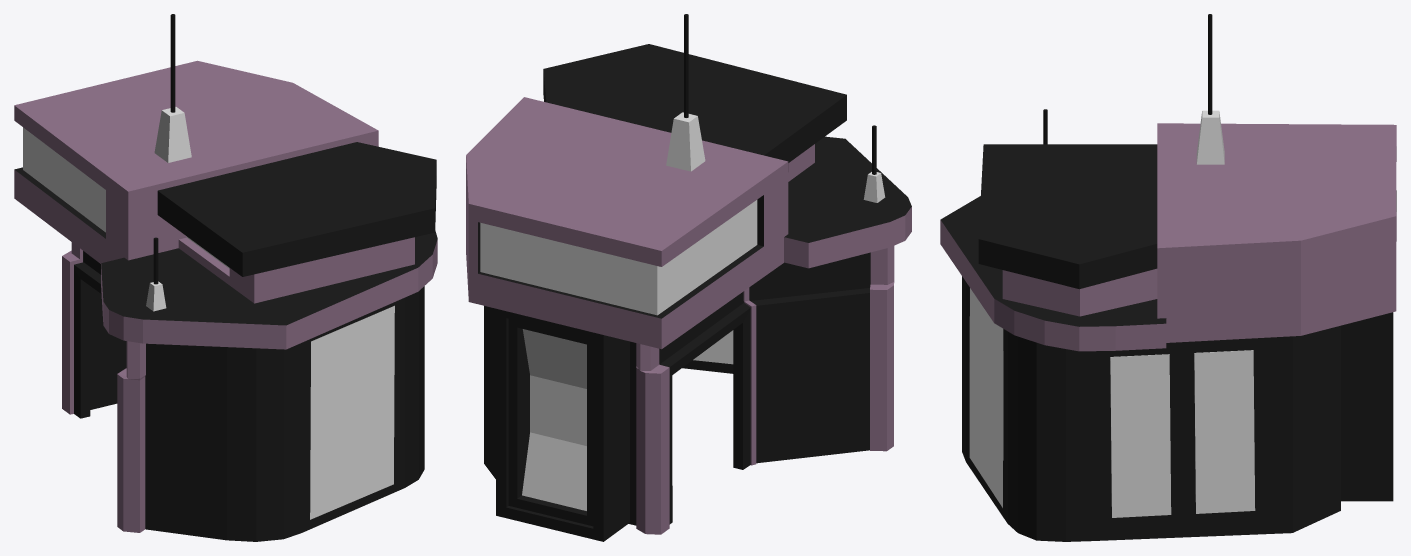
File: Spider Island Level 1 Small Building.fbx
3 renders of one model, left to right at view 1: azimuth 30°, elevation 25°; view 2: azimuth 150°, elevation 25°; view 3: azimuth 270°, elevation 25°, orthographic. The views are drawn at different scales.
Visible parts, largest first — view 1: Small Building 1; view 2: Small Building 1; view 3: Small Building 1.
Boxes of the visible parts, box(x1,y1,x2,y2) form: Small Building 1: box(14, 14, 437, 541); Small Building 1: box(466, 14, 911, 541); Small Building 1: box(940, 14, 1396, 541).
Size of the model in its own units: 9.35 by 11.53 by 10.77.
